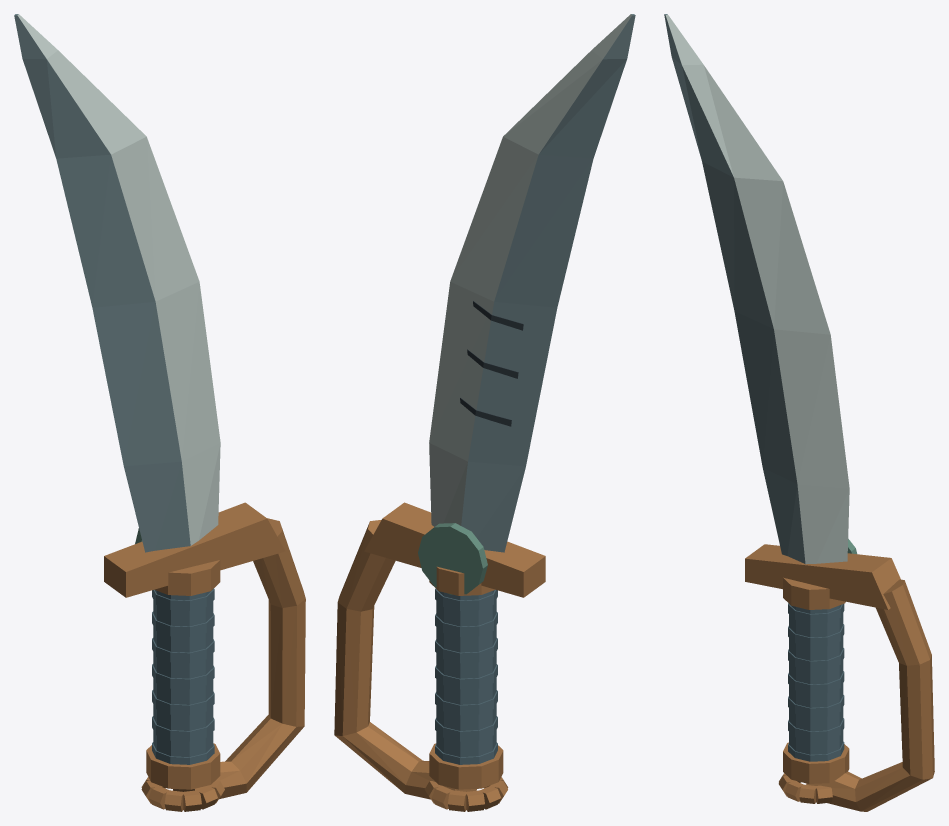
Rendered from SWW_TidewornCutlass.fbx.
The picture shows the model from 3 angles, left to right: view 1: azimuth 30°, elevation 25°; view 2: azimuth 150°, elevation 25°; view 3: azimuth 330°, elevation 25°; orthographic projection. The views are drawn at different scales.
Visible parts, largest first — view 1: SWW_TidewornCutlass; view 2: SWW_TidewornCutlass; view 3: SWW_TidewornCutlass.
Boxes of the visible parts, x1,y1,x2,y2 form: SWW_TidewornCutlass: [14, 14, 305, 811]; SWW_TidewornCutlass: [334, 14, 635, 811]; SWW_TidewornCutlass: [664, 14, 934, 811].
Bounding box in the file's own units: 0.3698 × 1 × 0.0913.
